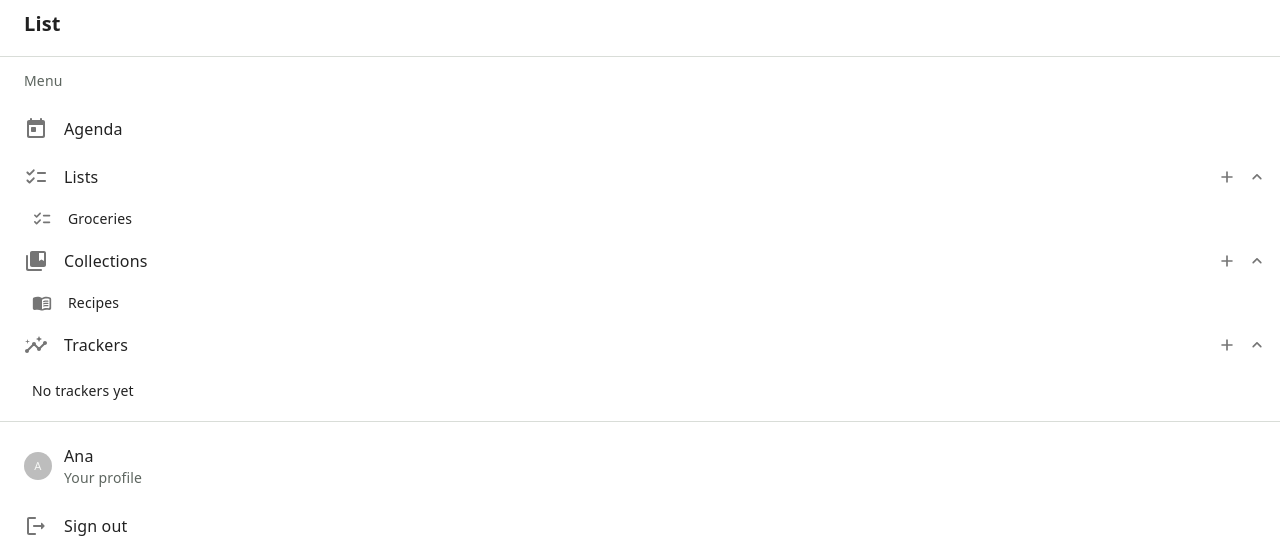
Test case: SideNav › collapses one group without touching the other
The width and height of the screenshot is (1280, 553).
Click the button named "Hide lists" at (1257, 177), box top-left (1242, 162), bottom-right (1272, 192)
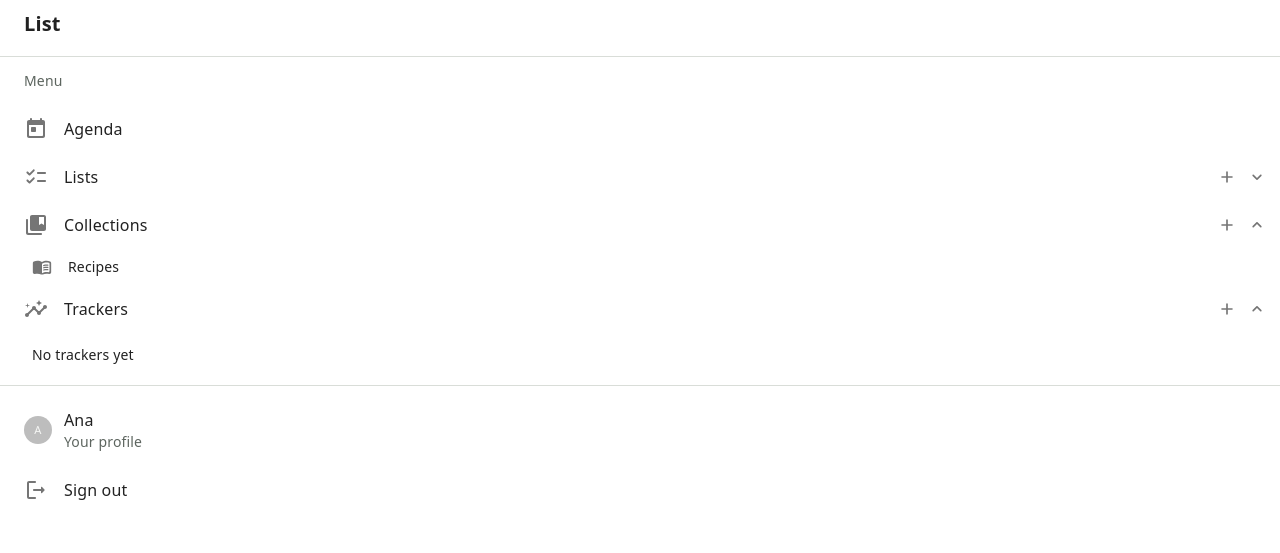
Check: the link "Recipes" is shown, box top-left (32, 257), bottom-right (119, 277)
Check: the link "Groceries" is gone
Click the button named "Show lists" at (1257, 177), box top-left (1242, 162), bottom-right (1272, 192)
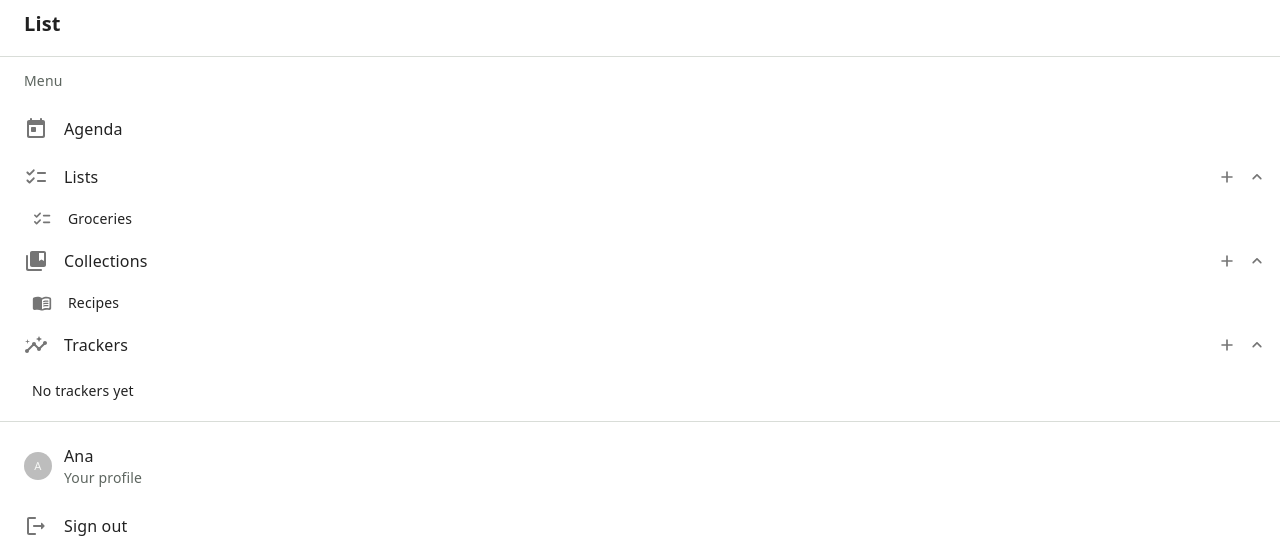
Check: the link "Groceries" is shown, box top-left (32, 209), bottom-right (132, 229)
